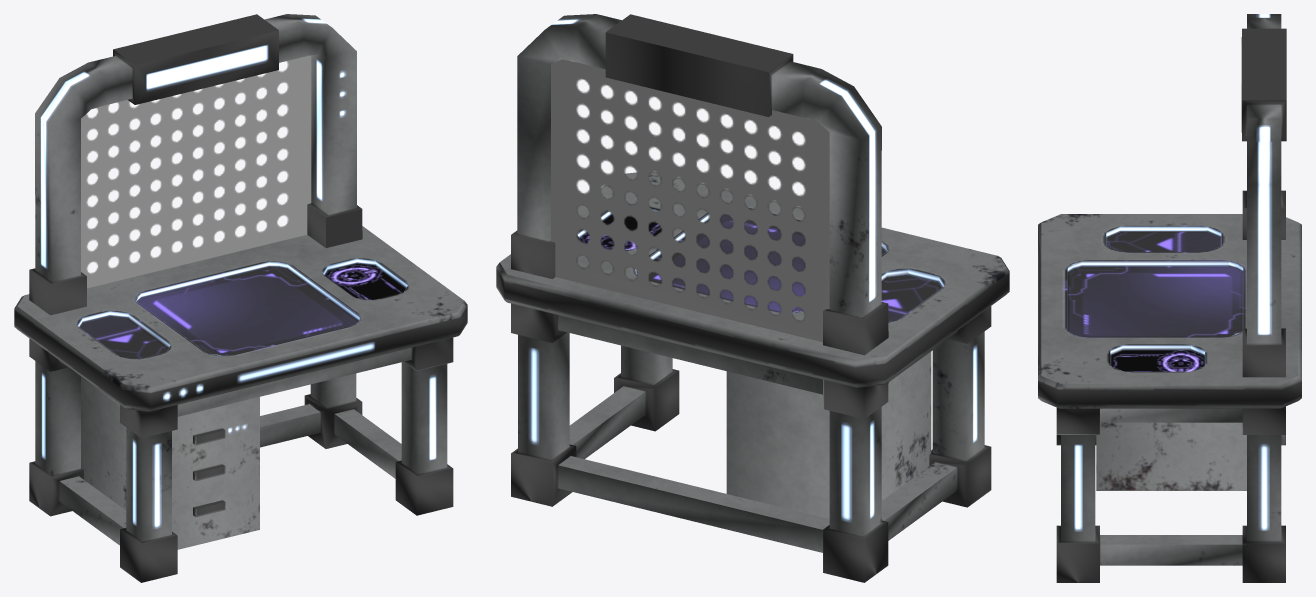
File: powered_workbench.gltf
3 views of the same model, side by side, from view 1: azimuth 30°, elevation 25°; view 2: azimuth 150°, elevation 25°; view 3: azimuth 270°, elevation 25° (orthographic). The views are drawn at different scales.
Visible parts, largest first — view 1: powered_workbench; view 2: powered_workbench; view 3: powered_workbench.
Boxes of the visible parts, <box> form: powered_workbench: <box>14,14,467,582</box>; powered_workbench: <box>496,14,1009,582</box>; powered_workbench: <box>1038,14,1301,582</box>.
Bounding box in the file's own units: 2.4 × 2.88 × 1.56.
Materials: 1 (1 with a texture image).
